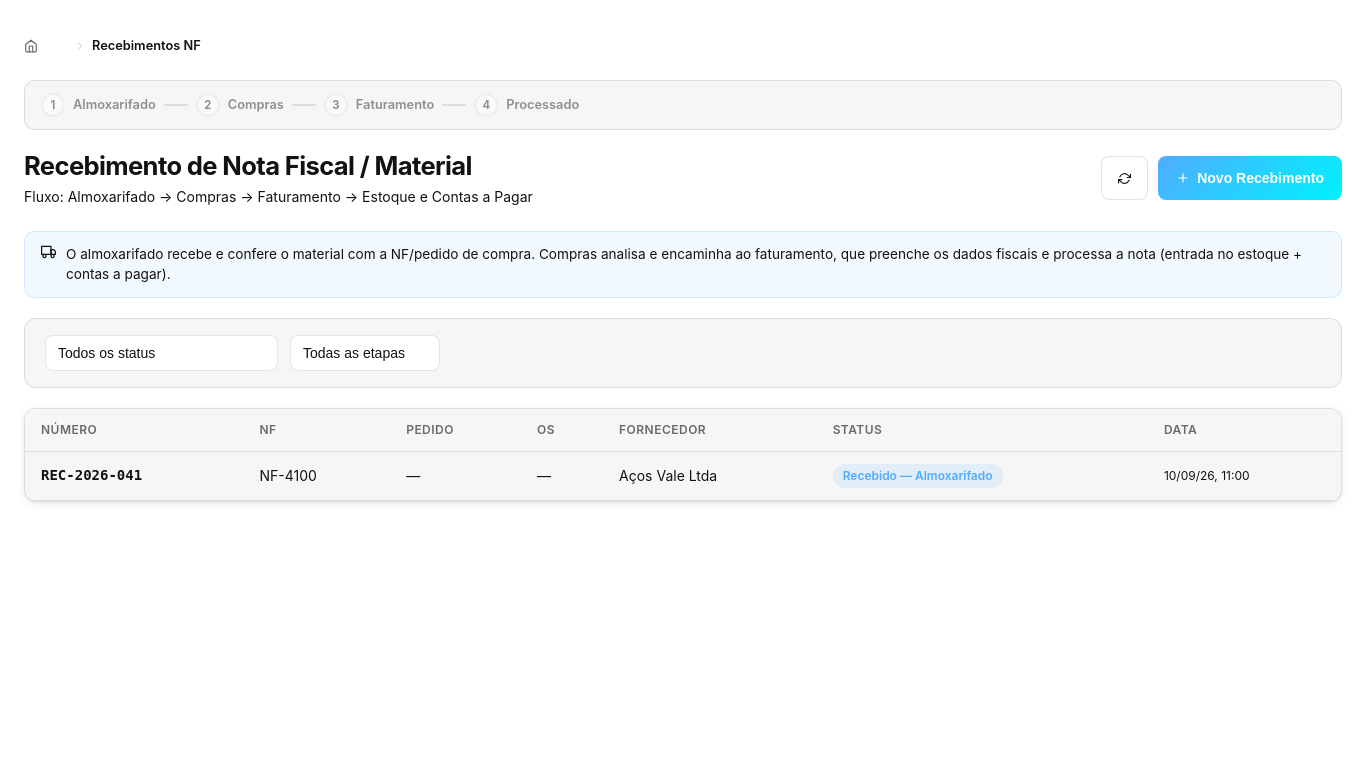
Test: (b) o painel nao tem preco, total nem observacao — nem quando a resposta os traz; campo vazio vira "—"
Click the button "Novo Recebimento". click: (1250, 178)
box: [1158,156,1342,200]
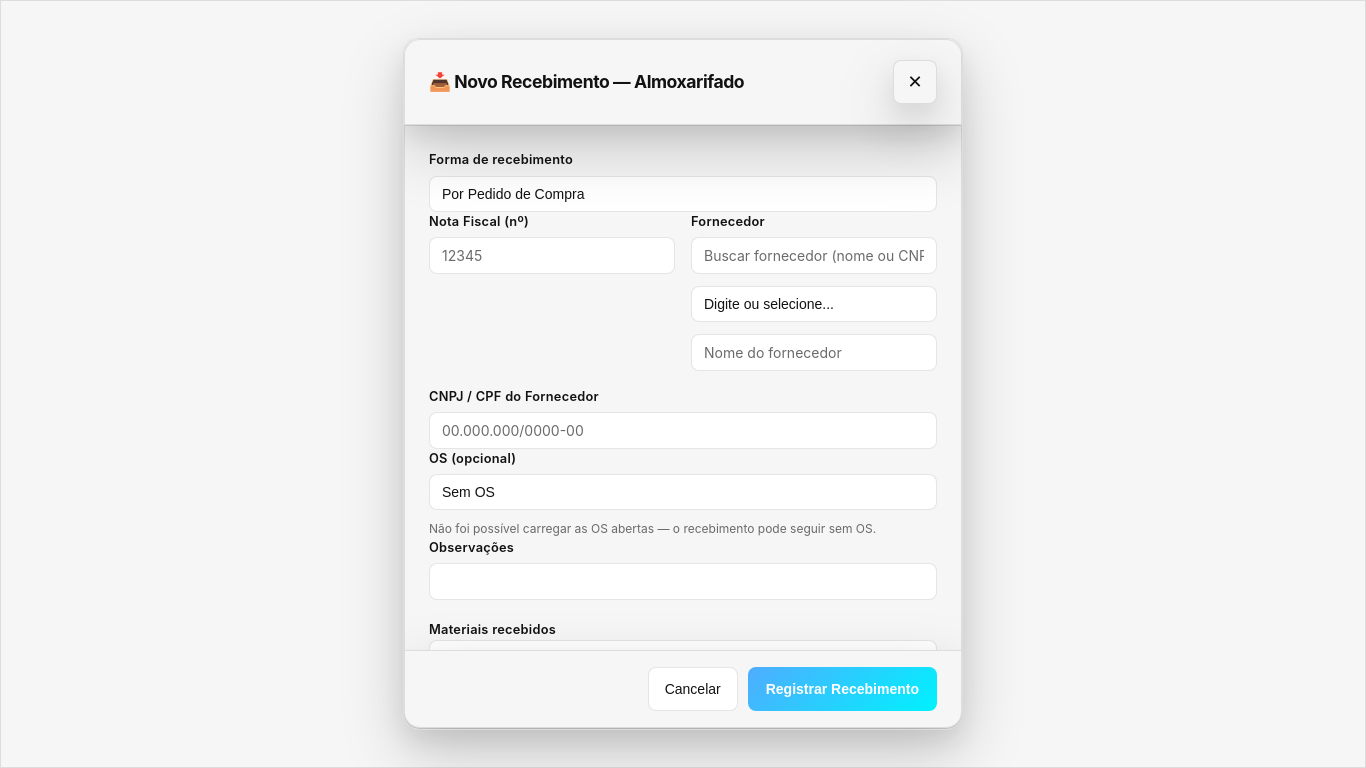
Select "Por Pedido de Compra" in the dropdown below "Forma de recebimento". click: (683, 194)
box: [429,176,937,212]
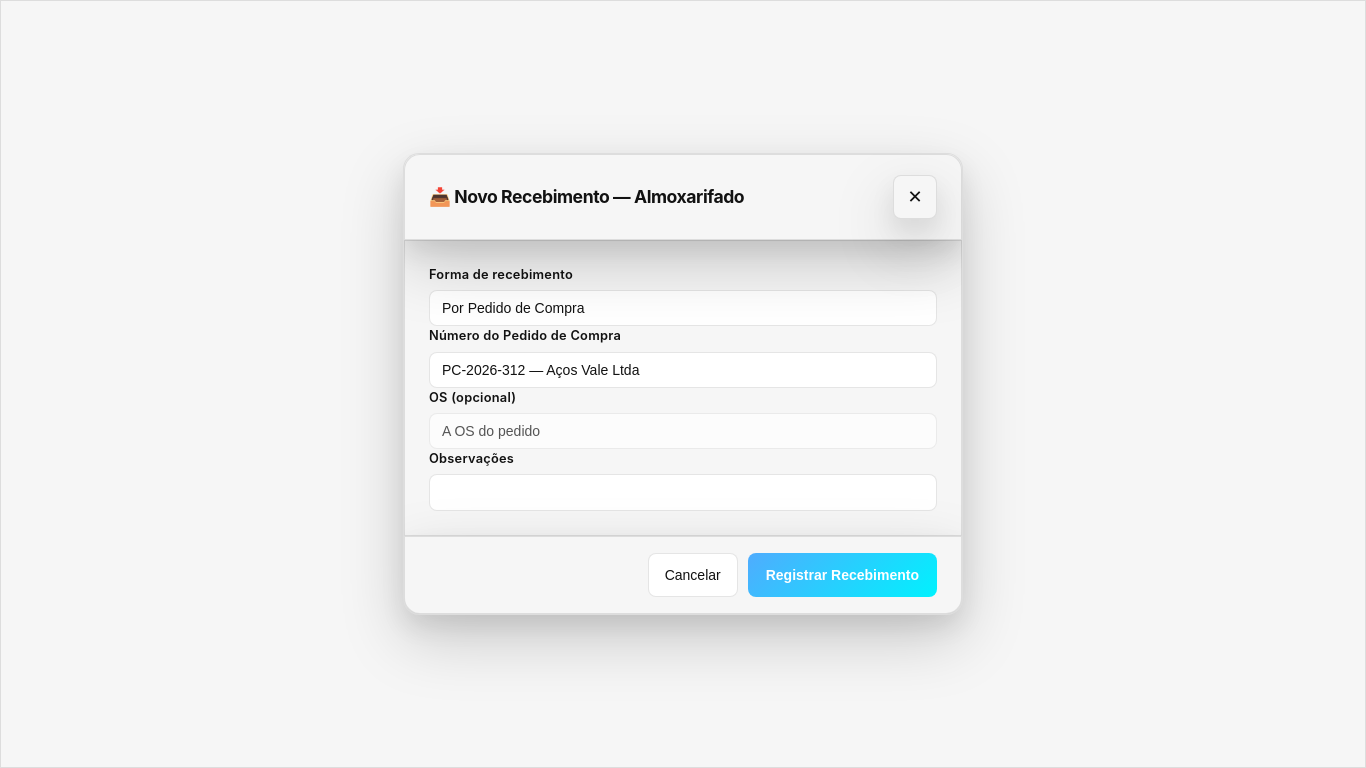
Select "PC-2026-312 — Aços Vale Ltda" in the dropdown below "Número do Pedido de Compra". click: (683, 370)
box: [429,352,937,388]
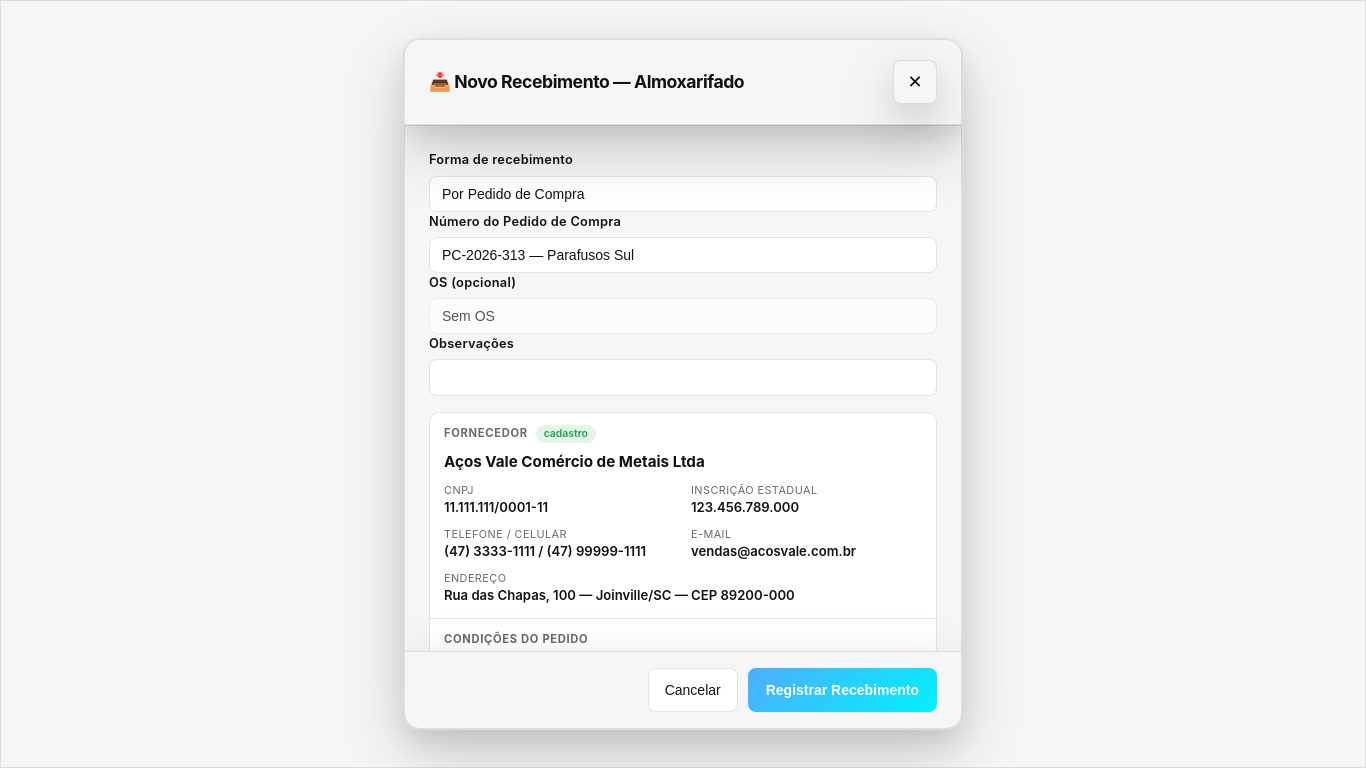
Select "PC-2026-313 — Parafusos Sul" in the dropdown below "Número do Pedido de Compra". click: (683, 255)
box: [429,237,937,273]
(page scrolled)
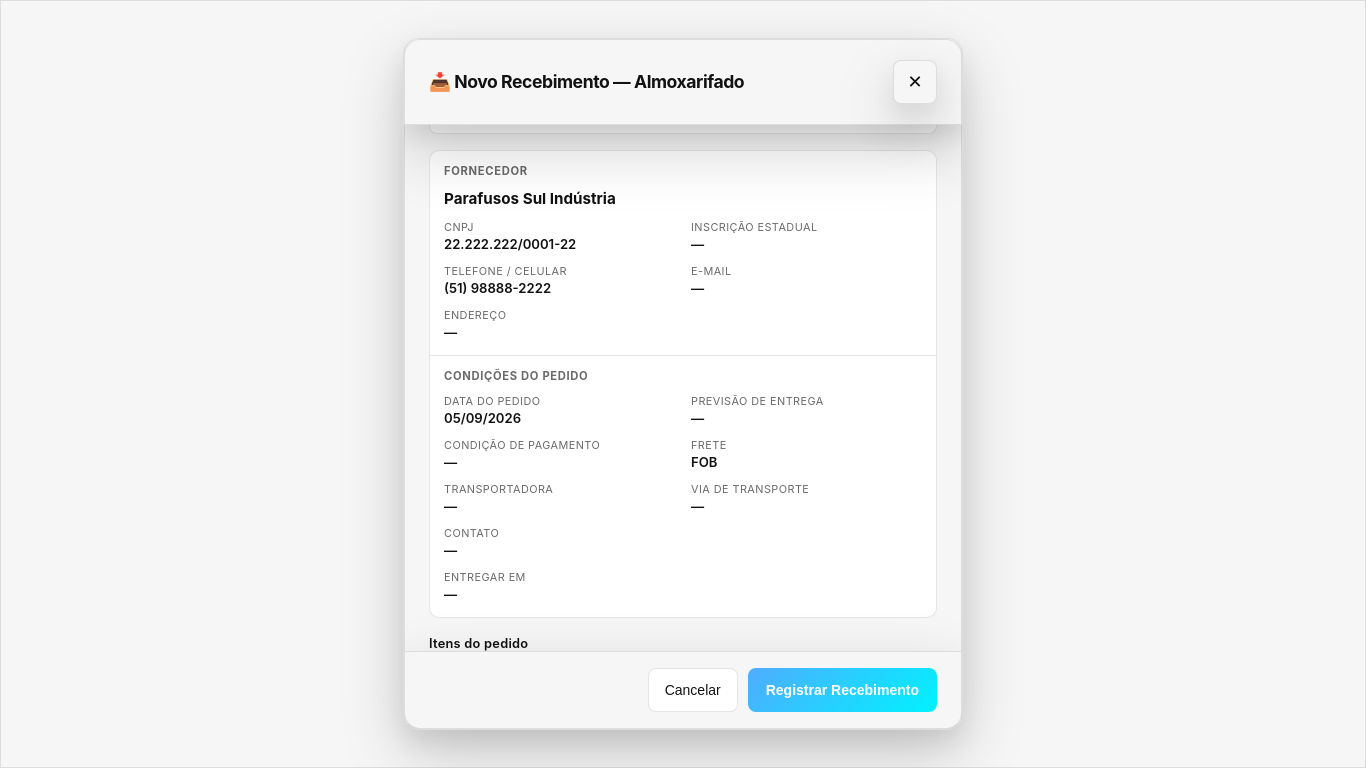
Result: the element with test id "painel-pedido" is shown at [429,150,937,618]
Result: the element with test id "painel-pedido" shows "Parafusos Sul Indústria" at [444,189,616,208]
Result: the text with test id "painel-pedido-origem" is gone
